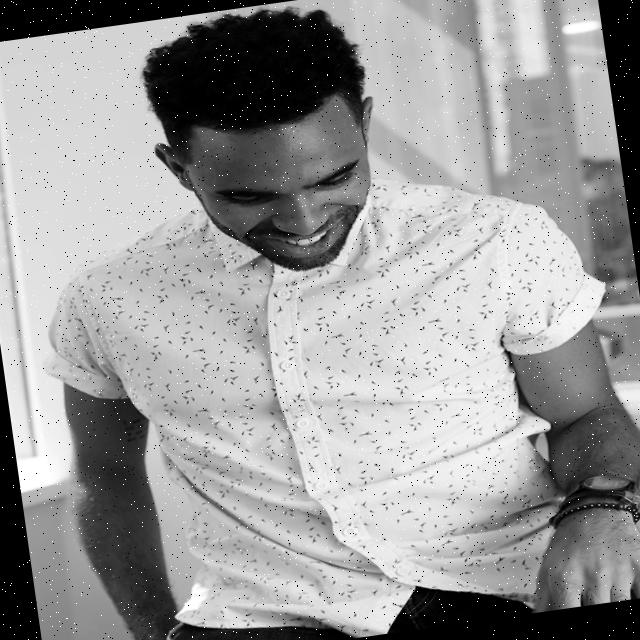Happiness: (177, 90, 388, 286)
